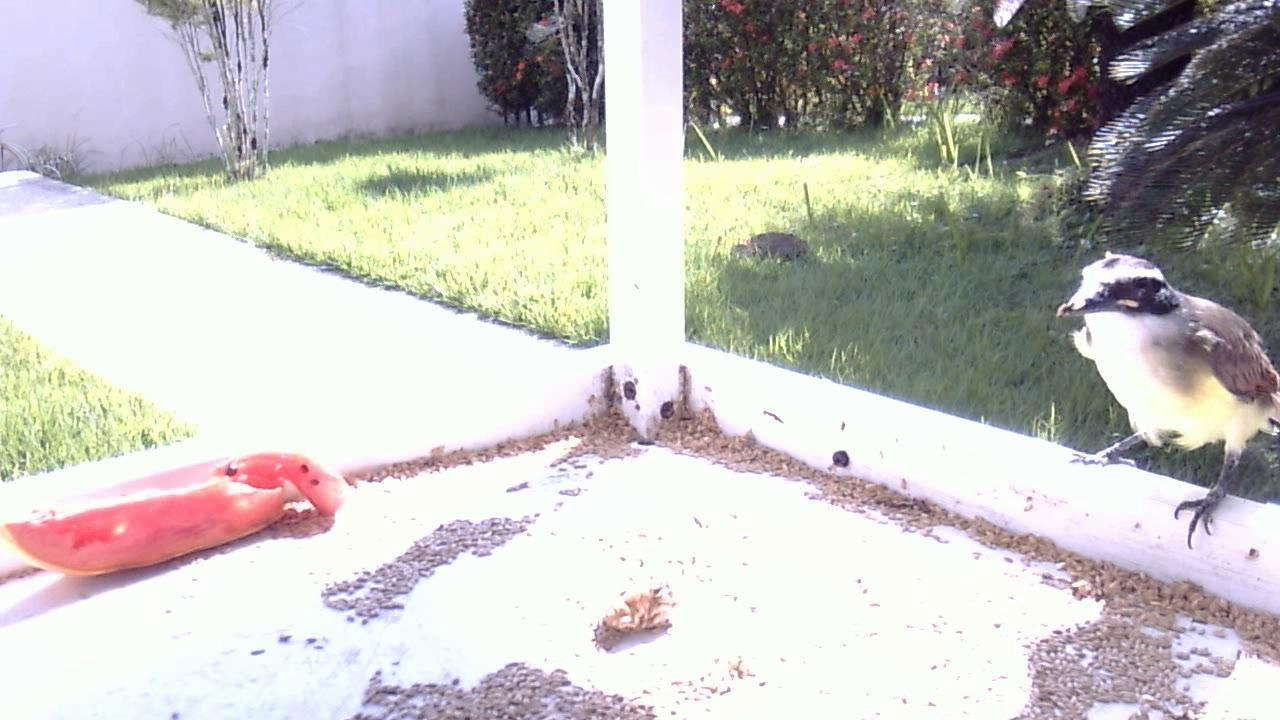bem_te_vi: (1044, 238, 1280, 565)
